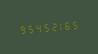five: (41, 20, 48, 34), (73, 17, 80, 31), (25, 22, 32, 35)
four: (33, 21, 40, 34)
nine: (17, 22, 24, 36)
one: (57, 19, 64, 32)
six: (65, 18, 72, 31)
two: (49, 19, 56, 33)
